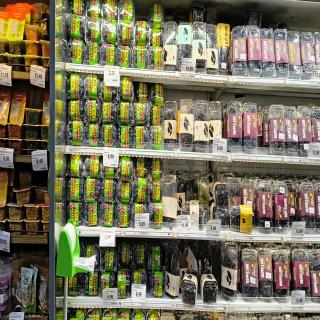fruit: (177, 98, 196, 153), (298, 182, 316, 232), (272, 24, 290, 74), (231, 25, 247, 75), (194, 102, 210, 151), (221, 246, 236, 298), (256, 179, 272, 225), (242, 247, 256, 298), (274, 182, 288, 232), (246, 29, 261, 75), (261, 28, 275, 77), (192, 25, 206, 73), (164, 102, 178, 148), (208, 23, 219, 78), (200, 273, 218, 304), (133, 178, 150, 206), (116, 180, 134, 205), (100, 124, 118, 148), (133, 102, 151, 125), (116, 104, 135, 124), (182, 284, 195, 305)
